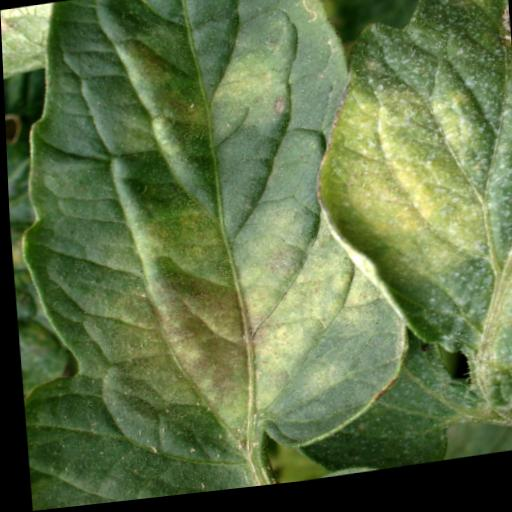Leaf Mold: (0, 0, 411, 508), (301, 0, 512, 442)
